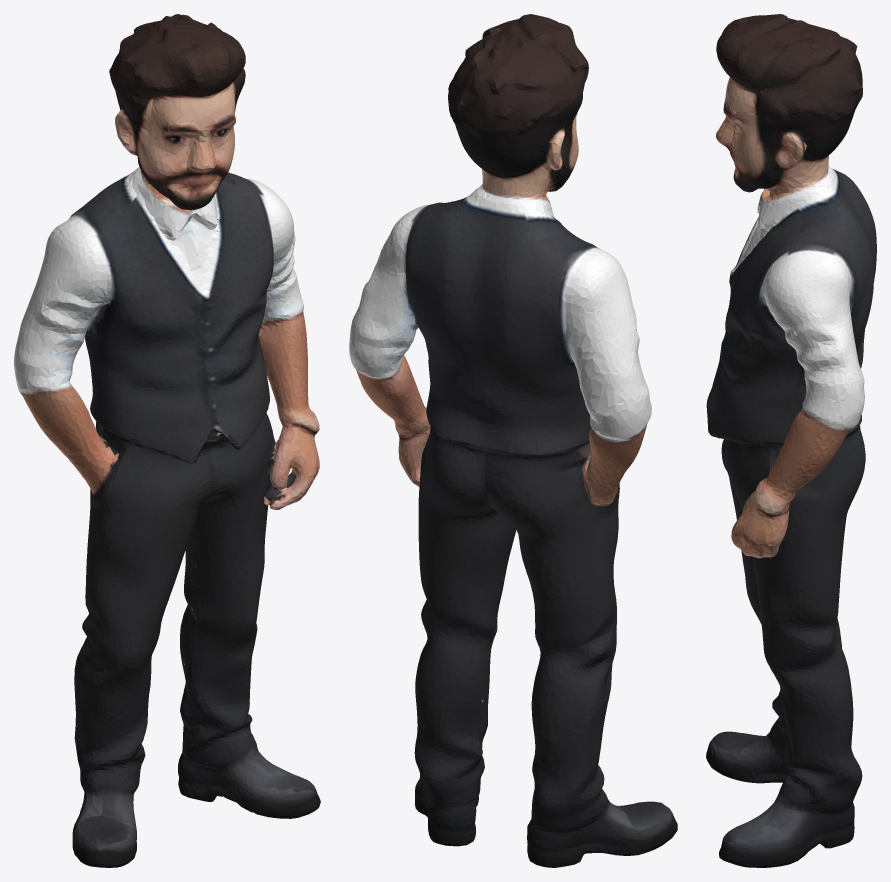
The model's file is h3t_fullbody_0003.glb.
The picture shows the model from 3 angles, left to right: view 1: azimuth 30°, elevation 25°; view 2: azimuth 150°, elevation 25°; view 3: azimuth 270°, elevation 25°; orthographic projection.
Visible parts, largest first — view 1: geometry_0; view 2: geometry_0; view 3: geometry_0.
Boxes of the visible parts, box(x1,y1,x2,y2) form: geometry_0: box(14, 14, 320, 867); geometry_0: box(349, 14, 677, 867); geometry_0: box(706, 14, 876, 867).
Bounding box in the file's own units: 0.7465 × 1.99 × 0.3878.
Materials: 1 (1 with a texture image).
